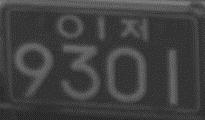0: (105, 46, 147, 103), (56, 13, 84, 39)
1: (156, 48, 189, 106), (90, 14, 113, 39)
3: (60, 43, 101, 101)
9: (13, 41, 54, 99)
저: (119, 17, 148, 41)
